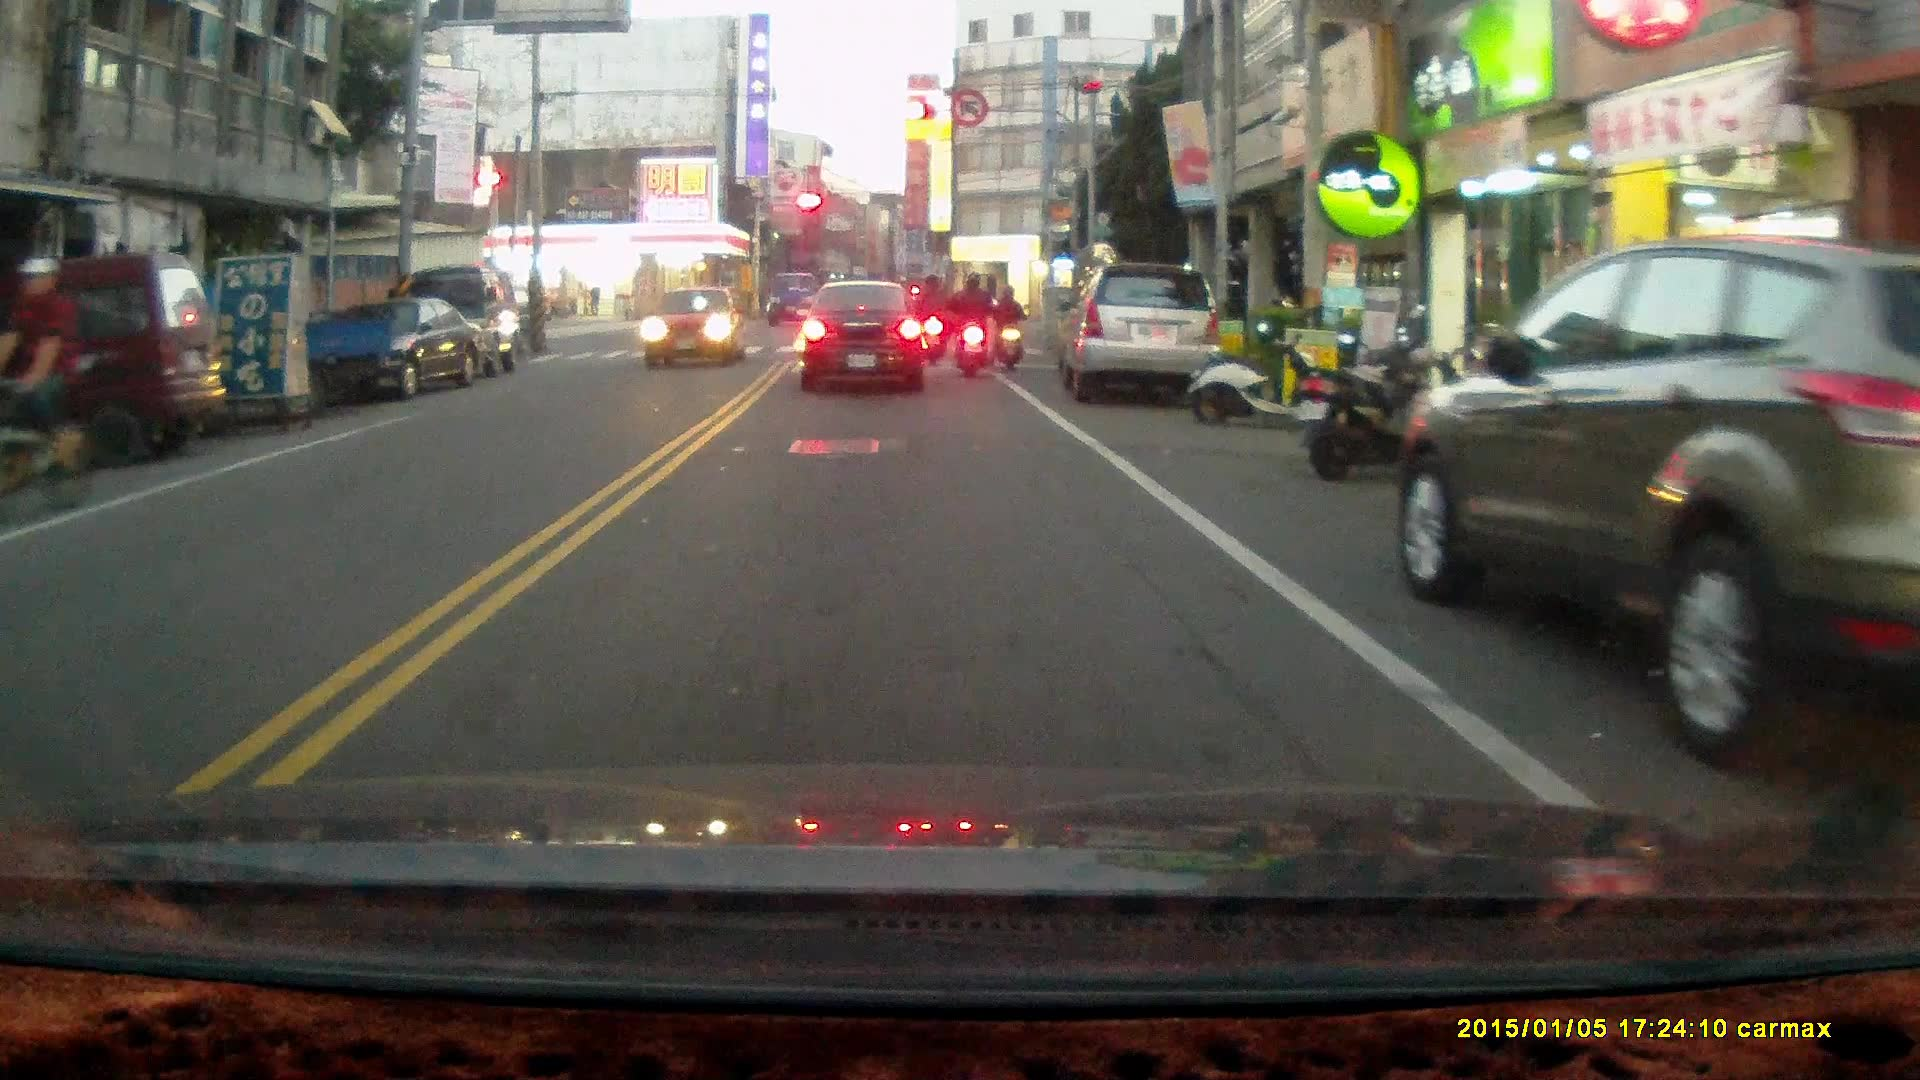rider: (0, 257, 95, 533), (948, 270, 997, 377), (914, 272, 948, 366), (992, 283, 1024, 371)
vehicle: (1405, 233, 1920, 793), (1, 251, 232, 473), (1055, 260, 1228, 410), (294, 294, 493, 401), (400, 260, 526, 381), (802, 278, 934, 394), (643, 284, 744, 367)
